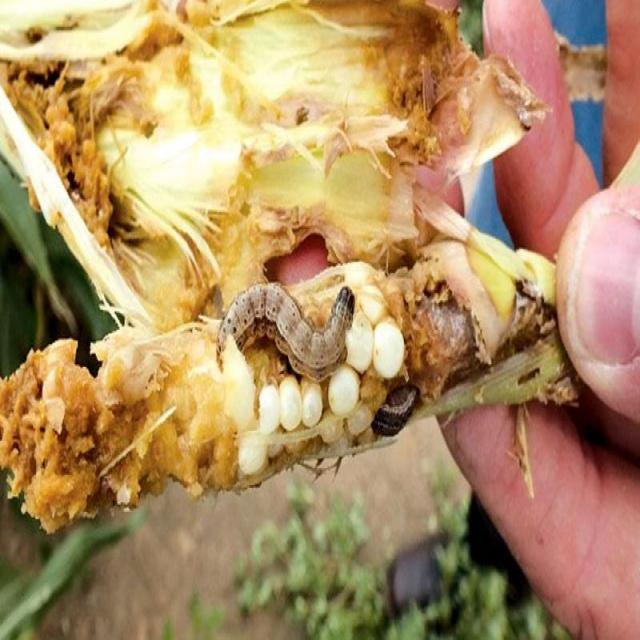worm: (216, 280, 356, 384), (369, 356, 429, 464)
